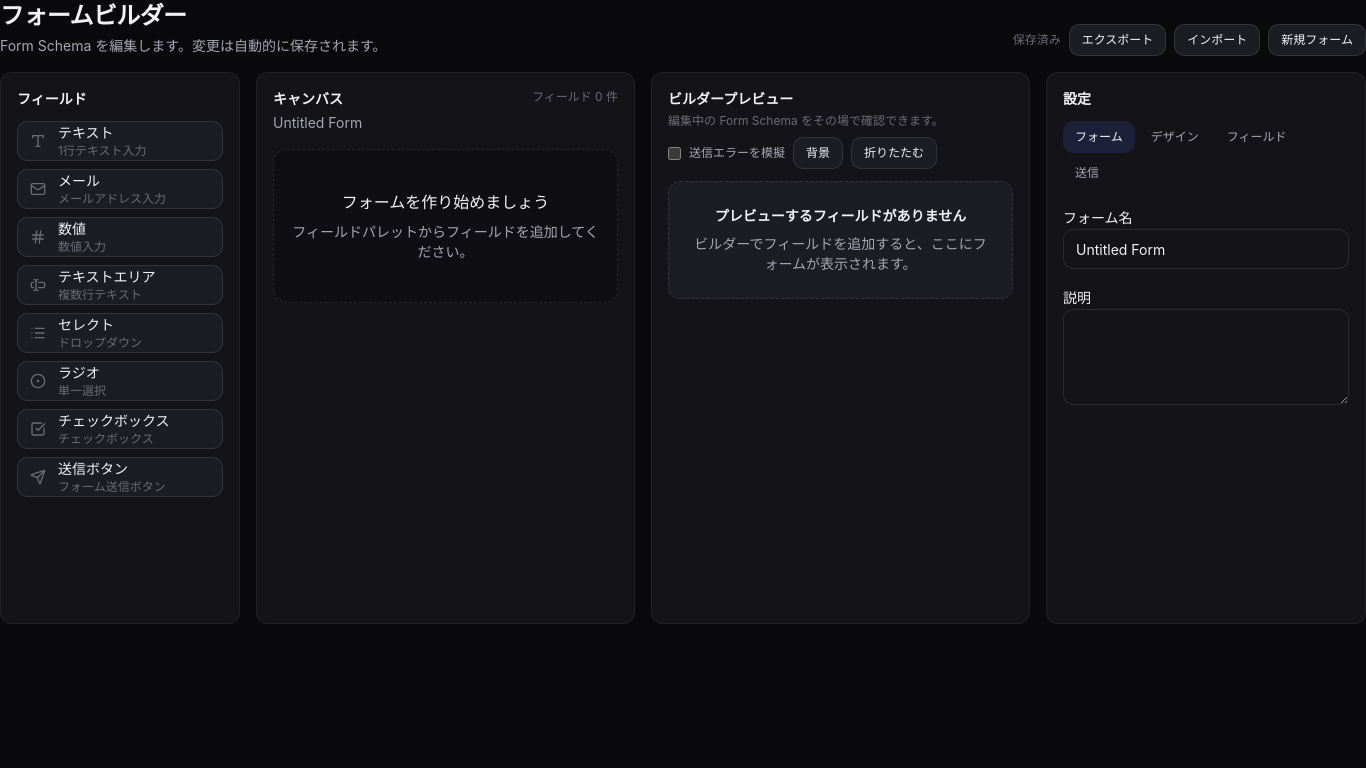
BuilderWorkspace › requires confirmation before resetting the form
This screenshot has width=1366, height=768.
Click the button "テキスト 1行テキスト入力" at (120, 141), box [17, 121, 223, 161]
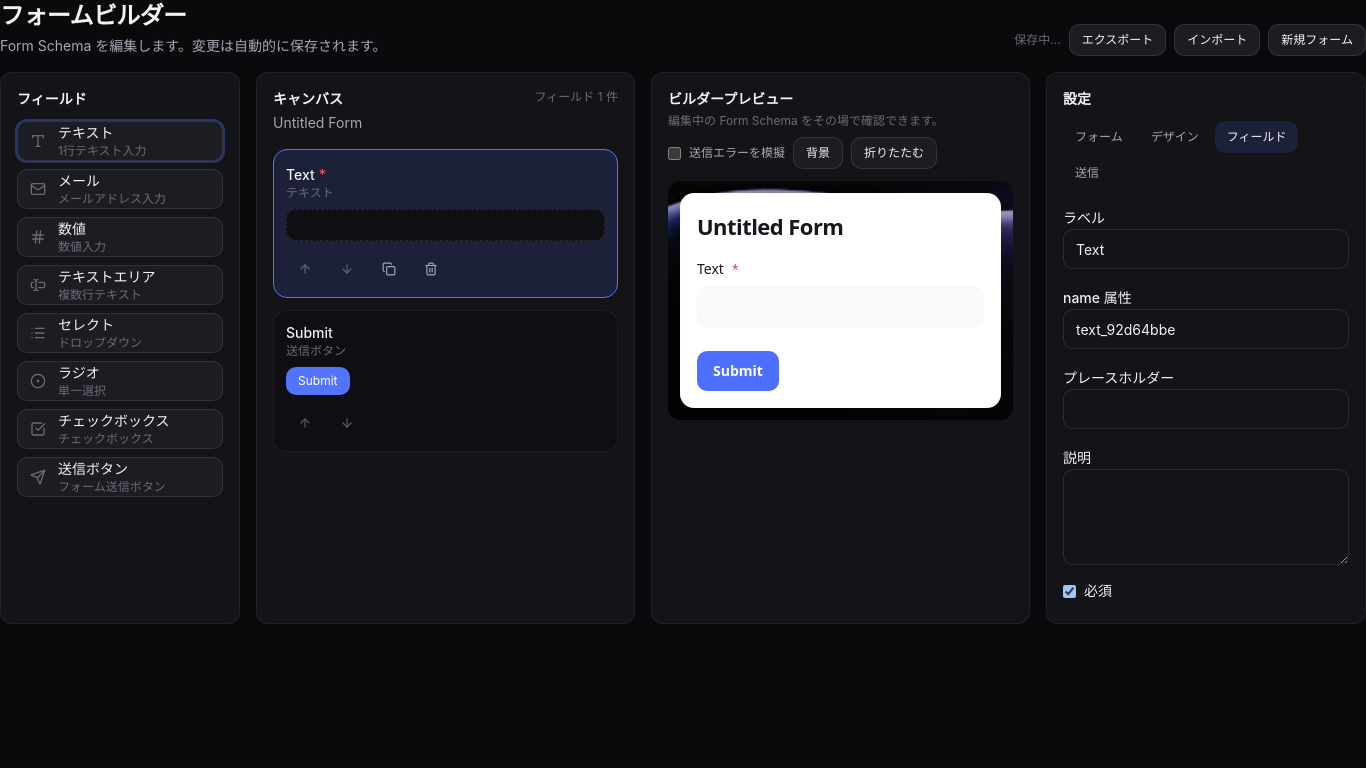
Click the button "新規フォーム" at (1317, 40), box [1268, 24, 1365, 56]
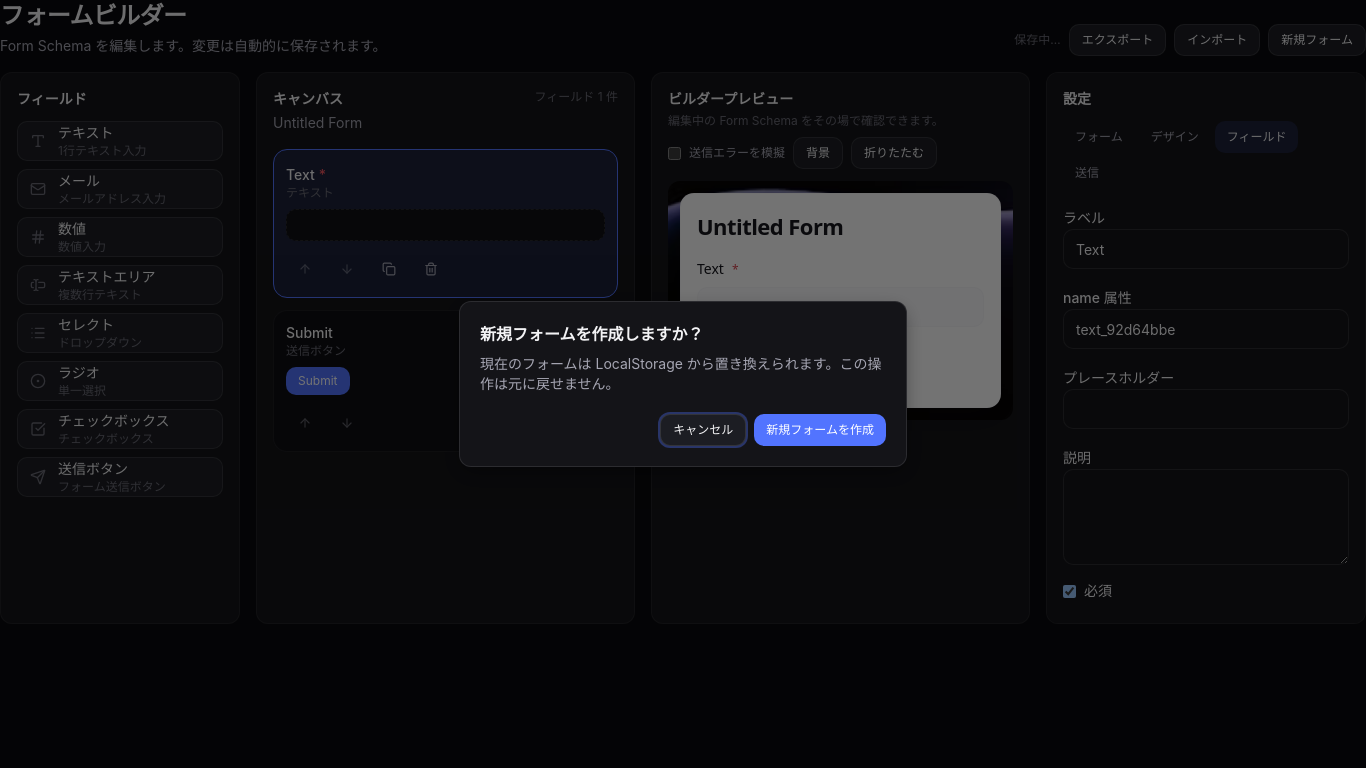
Now the dialog is shown, box [459, 301, 907, 467]
Click the button "キャンセル" at (703, 430), box [660, 414, 746, 446]
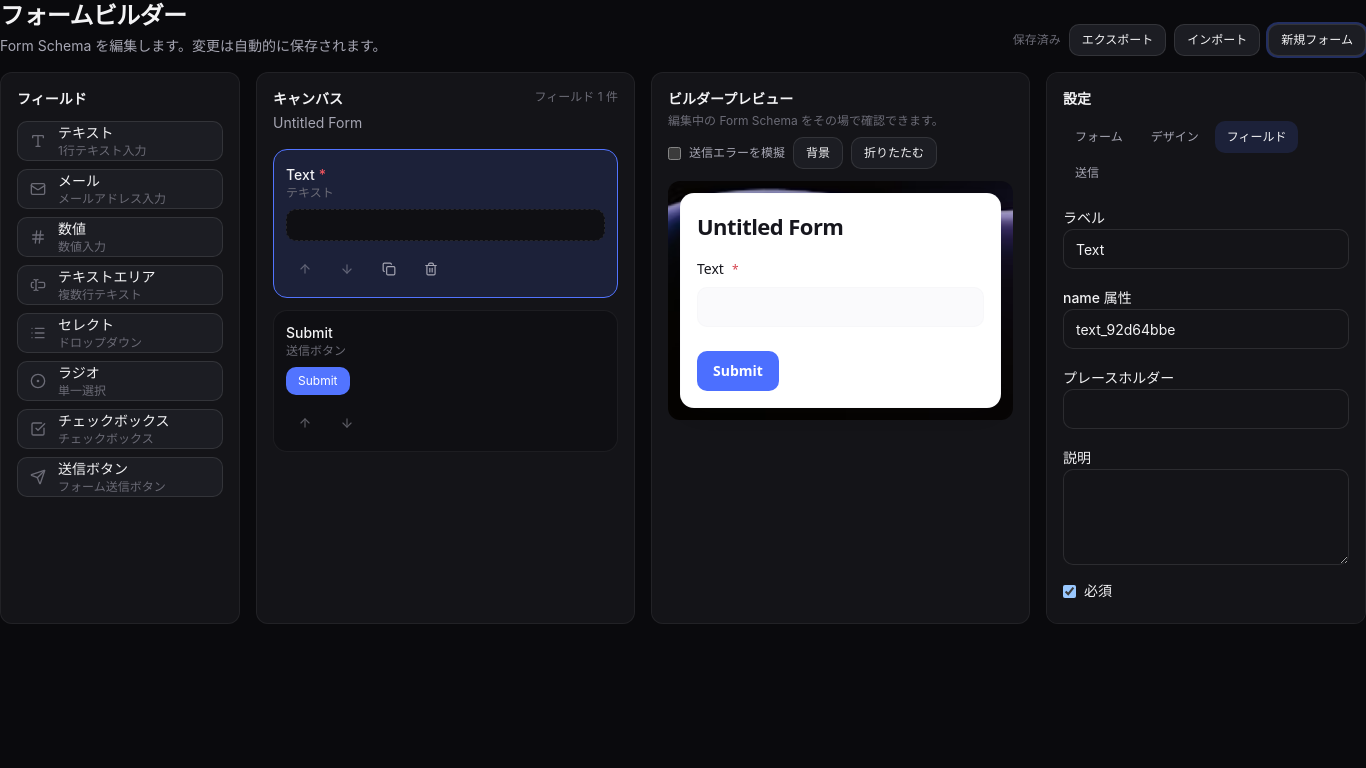
Now the text "フィールド 1 件" is shown, box [535, 89, 618, 105]
Now the dialog is gone
Click the button "新規フォーム" at (1317, 40), box [1268, 24, 1365, 56]
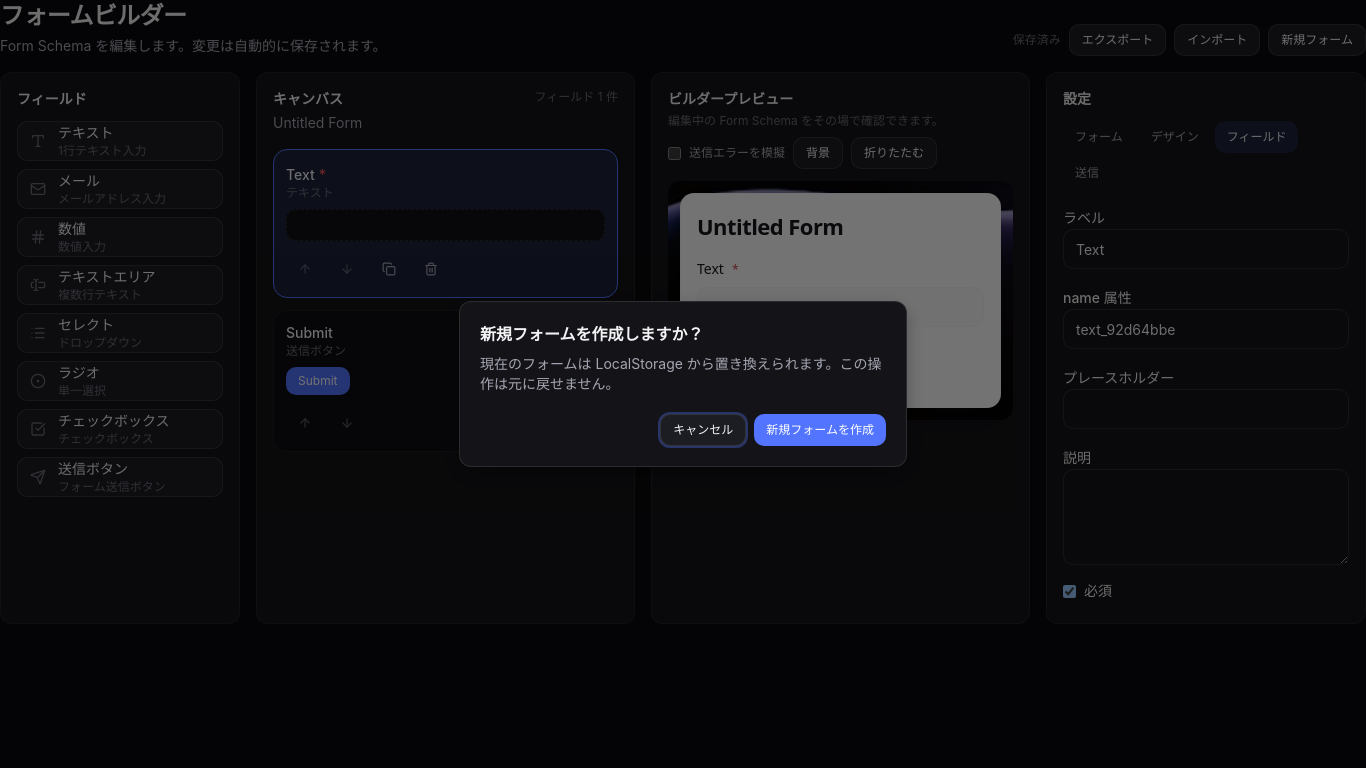
Click the button "新規フォームを作成" at (820, 430), box [754, 414, 886, 446]
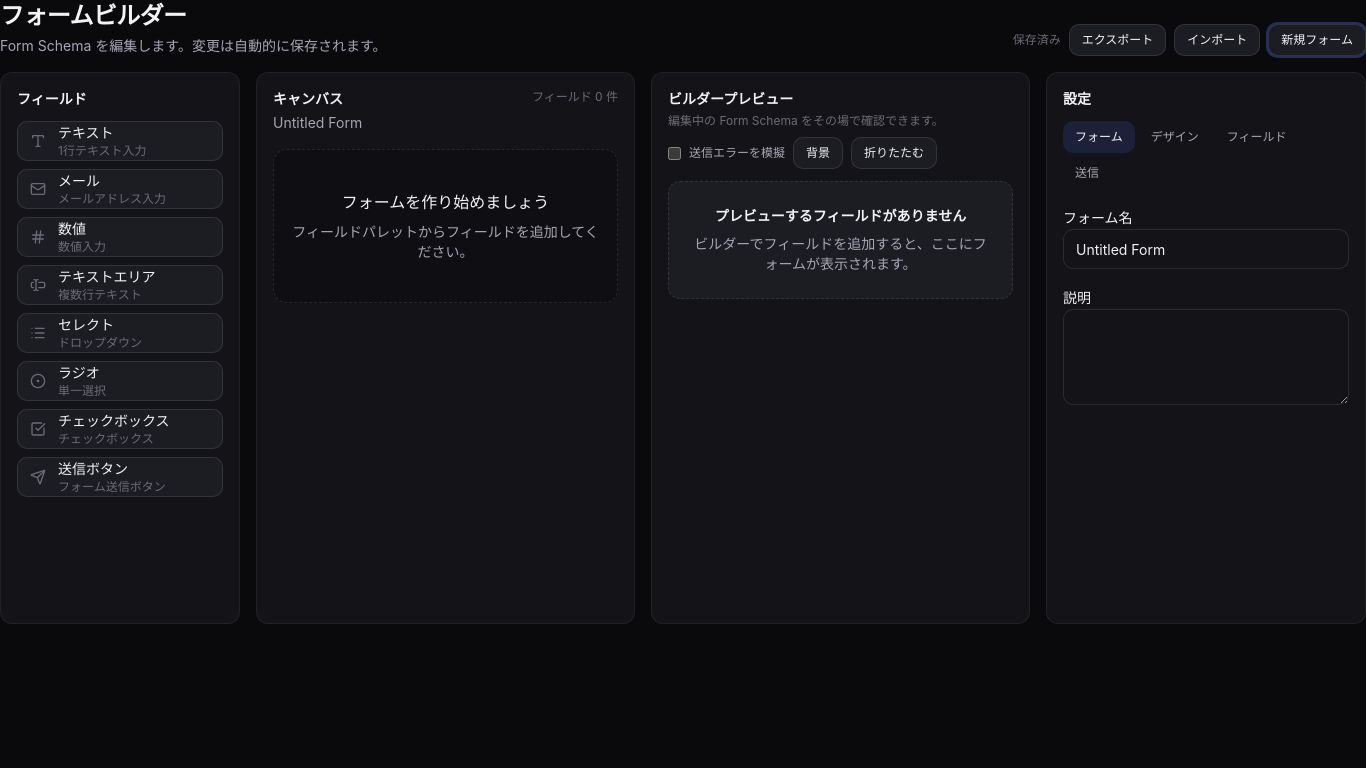
Now the text "フィールド 0 件" is shown, box [532, 89, 618, 105]
